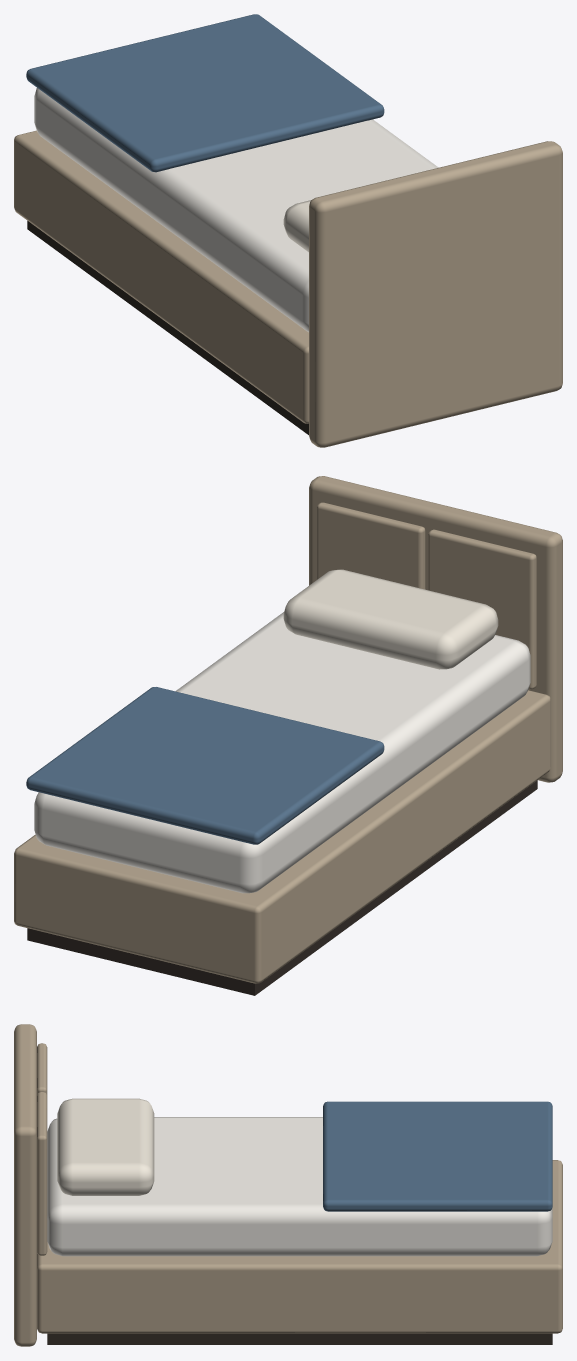
3 renders of one model, top to bottom at view 1: azimuth 30°, elevation 25°; view 2: azimuth 150°, elevation 25°; view 3: azimuth 270°, elevation 25°, orthographic. The views are drawn at different scales.
Parts seen in each view (by area): view 1: headboard, blanket, mattress, base, plinth, pillow-1; view 2: base, mattress, blanket, pillow-1, headboard, headboard-panel-1, headboard-panel-2, plinth; view 3: base, mattress, blanket, pillow-1, headboard, plinth, headboard-panel-2, headboard-panel-1.
Boxes of the visible parts, x1=… form: headboard: x1=309, y1=141, x2=562, y2=447; blanket: x1=26, y1=14, x2=384, y2=172; mattress: x1=34, y1=88, x2=438, y2=332; base: x1=14, y1=130, x2=308, y2=423; plinth: x1=27, y1=221, x2=308, y2=434; pillow-1: x1=283, y1=200, x2=310, y2=252; base: x1=14, y1=690, x2=550, y2=983; mattress: x1=34, y1=612, x2=530, y2=893; blanket: x1=26, y1=687, x2=384, y2=844; pillow-1: x1=283, y1=569, x2=498, y2=669; headboard: x1=309, y1=476, x2=562, y2=782; headboard-panel-1: x1=428, y1=529, x2=536, y2=689; headboard-panel-2: x1=316, y1=502, x2=425, y2=589; plinth: x1=27, y1=780, x2=537, y2=995; base: x1=37, y1=1160, x2=562, y2=1333; mattress: x1=47, y1=1117, x2=552, y2=1256; blanket: x1=323, y1=1101, x2=552, y2=1211; pillow-1: x1=57, y1=1098, x2=154, y2=1195; headboard: x1=14, y1=1024, x2=36, y2=1346; plinth: x1=47, y1=1333, x2=552, y2=1344; headboard-panel-2: x1=37, y1=1092, x2=47, y2=1255; headboard-panel-1: x1=37, y1=1043, x2=47, y2=1095.
Size of the model in its own units: 1 by 0.95 by 2.15.
